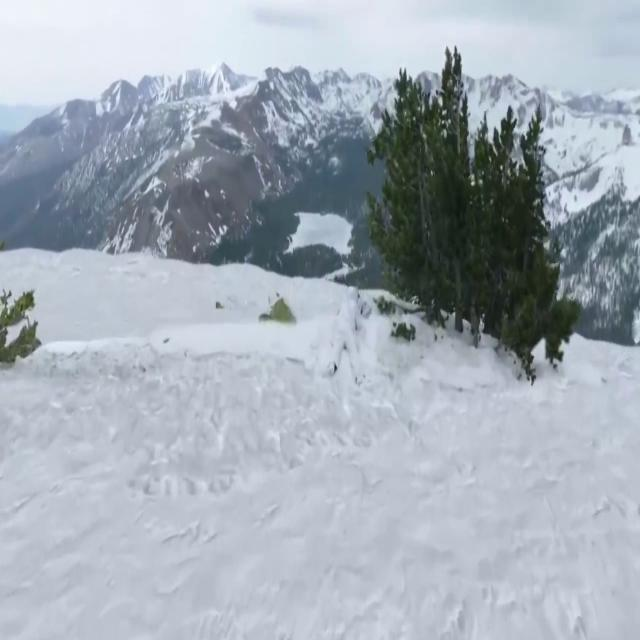Camouflage: (313, 284, 377, 386)
